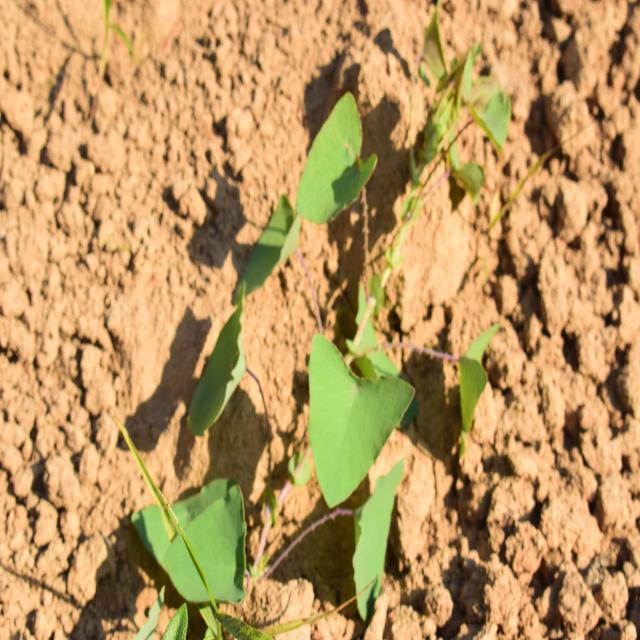Asiatic_Smartweed: (285, 334, 414, 584), (291, 92, 391, 240), (141, 485, 248, 619), (179, 299, 256, 441), (239, 178, 313, 306)
